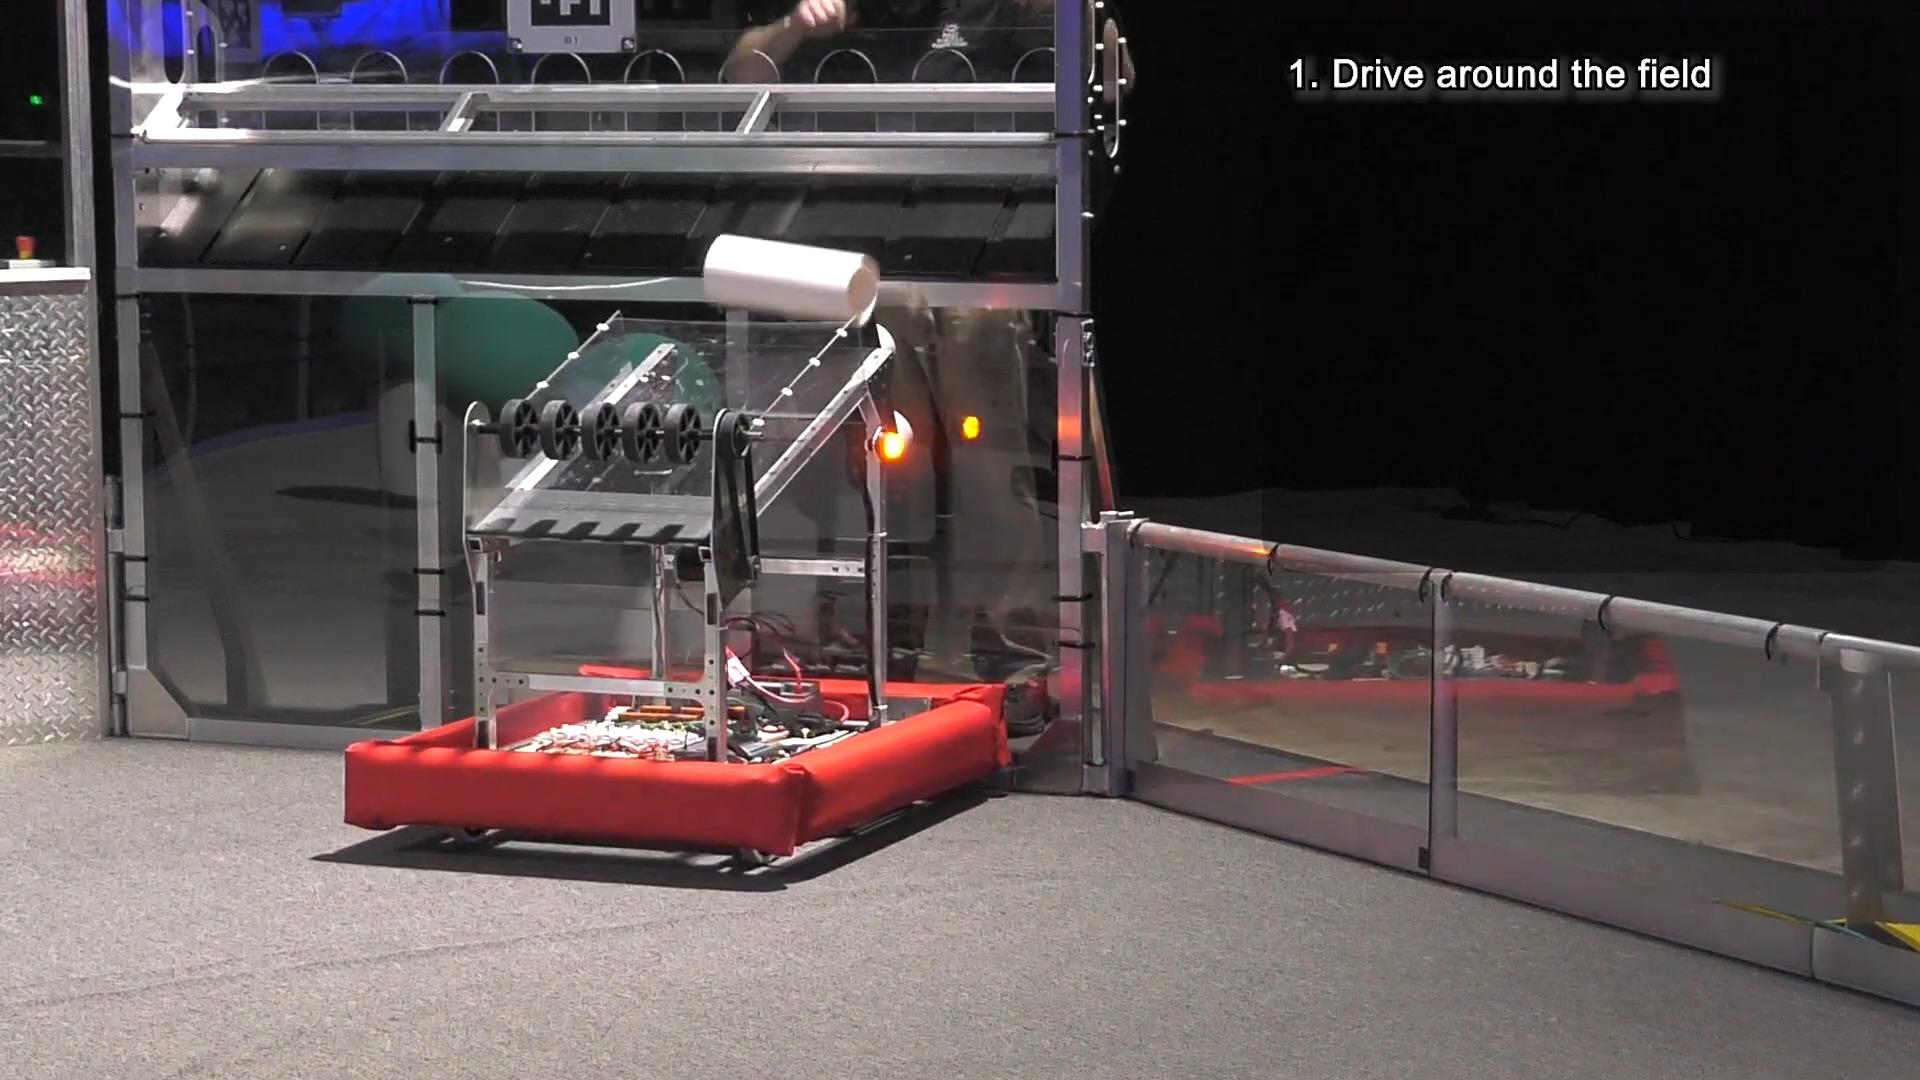coral: (699, 229, 880, 326)
